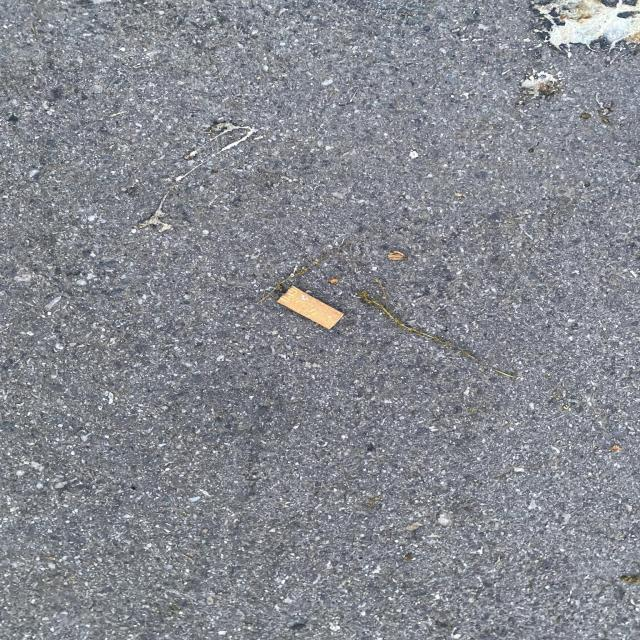other waste: (276, 284, 345, 330)
